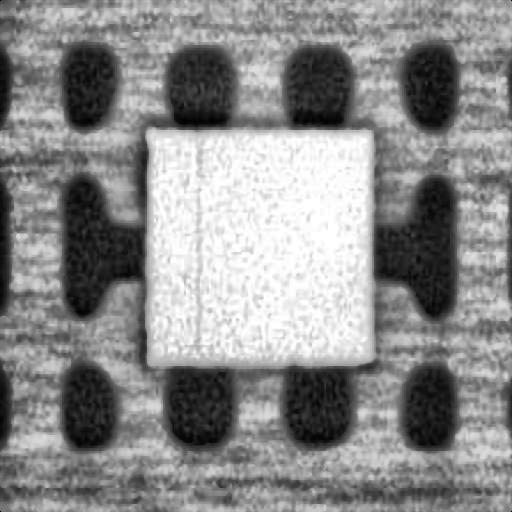DIE_CRACK: (184, 132, 204, 348)
